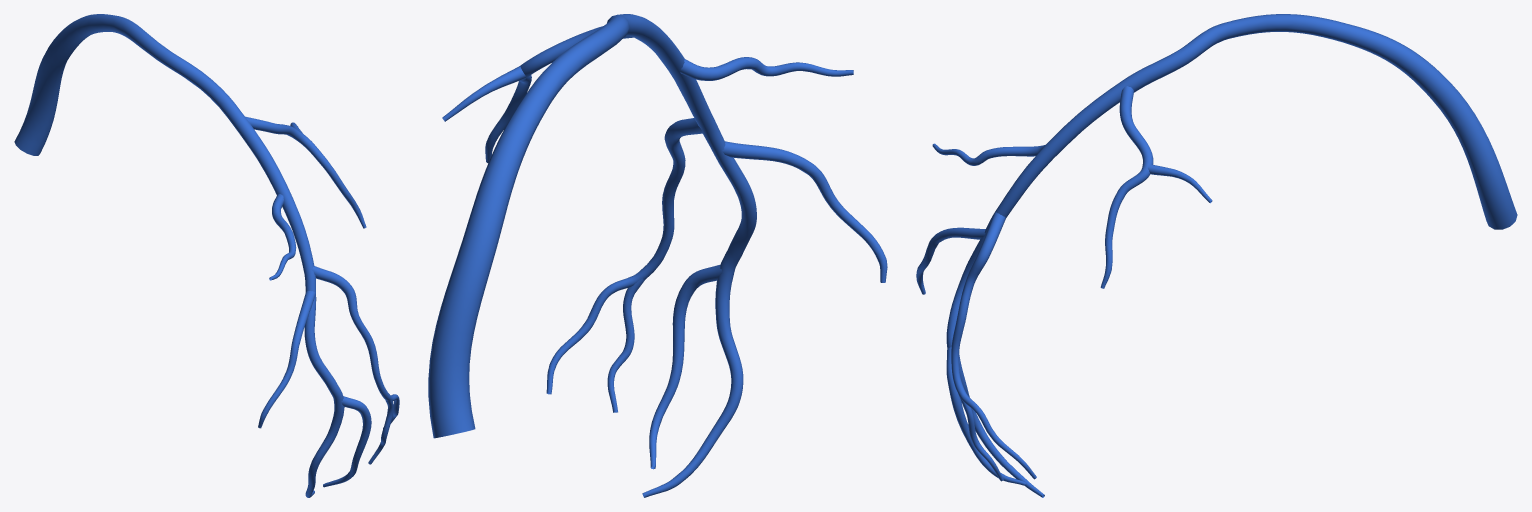
File: circulatorio-great-cardiac-vein.glb
3 renders of one model, left to right at view 1: azimuth 30°, elevation 25°; view 2: azimuth 150°, elevation 25°; view 3: azimuth 270°, elevation 25°, orthographic. The views are drawn at different scales.
Visible parts, largest first — view 1: Great cardiac vein; view 2: Great cardiac vein; view 3: Great cardiac vein.
Part boxes in pixels (x1,y1,x2,y2): Great cardiac vein: [14, 14, 399, 497]; Great cardiac vein: [428, 14, 887, 497]; Great cardiac vein: [916, 14, 1517, 497].
Bounding box in the file's own units: 0.0376 × 0.0767 × 0.0935.
